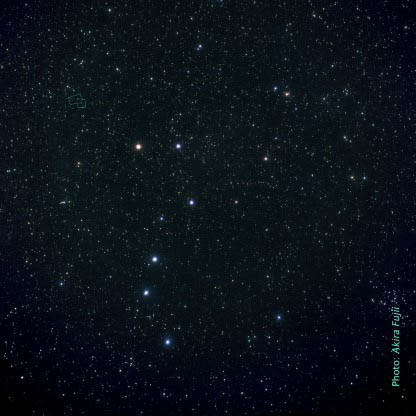Ursa Major: (145, 248, 168, 273), (134, 283, 156, 309), (154, 330, 176, 354), (127, 134, 148, 157), (152, 211, 170, 233), (169, 135, 186, 156), (187, 191, 201, 213)
